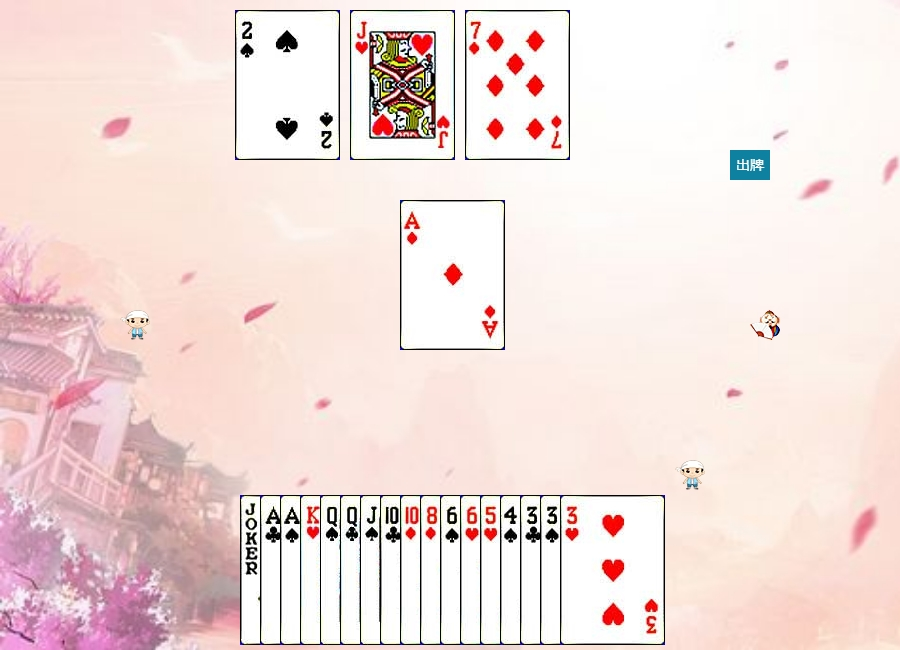10~1: (400, 495, 505, 645)
10~2: (380, 495, 485, 645)
11~3: (350, 10, 455, 160)
11~4: (360, 495, 465, 645)
12~2: (340, 495, 445, 645)
12~4: (320, 495, 425, 645)
13~3: (300, 495, 405, 645)
14~1: (400, 200, 505, 350)
14~2: (260, 495, 365, 645)
14~4: (280, 495, 385, 645)
15~4: (235, 10, 340, 160)
17~3: (240, 495, 345, 645)
3~2: (520, 495, 625, 645)
3~3: (560, 495, 665, 645)
3~4: (540, 495, 645, 645)
4~4: (500, 495, 605, 645)
5~3: (480, 495, 585, 645)
6~3: (460, 495, 565, 645)
6~4: (440, 495, 545, 645)
7~1: (465, 10, 570, 160)
8~1: (420, 495, 525, 645)
